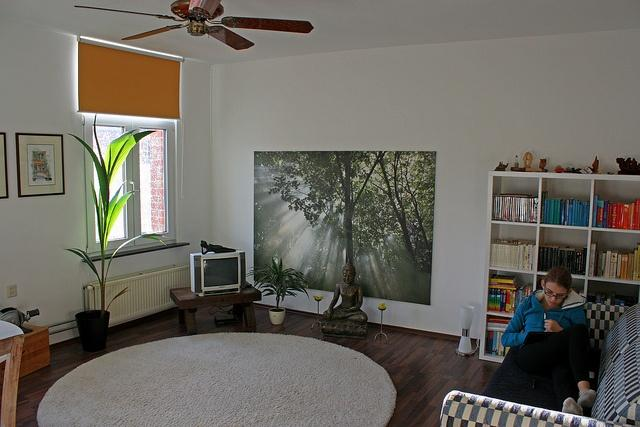Rak: (478, 169, 639, 319)
